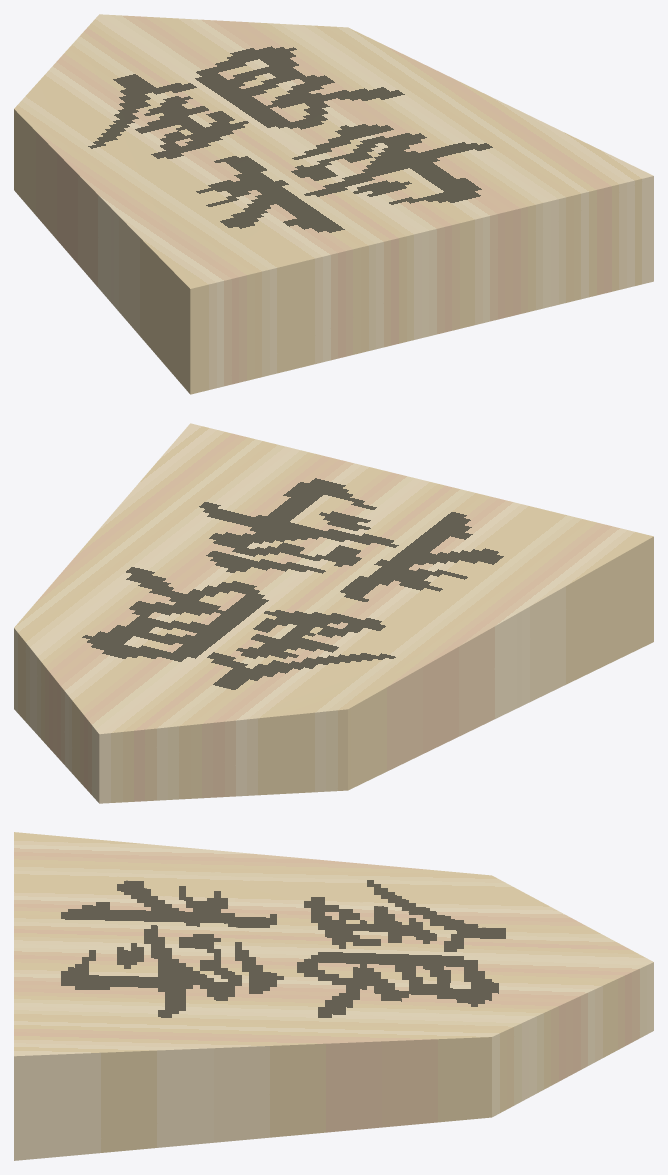
Rendered from 01ba_Ginsho.glb.
The picture shows the model from 3 angles, top to bottom: view 1: azimuth 30°, elevation 25°; view 2: azimuth 150°, elevation 25°; view 3: azimuth 270°, elevation 25°; orthographic projection.
Parts seen in each view (by area): view 1: part_0; view 2: part_0; view 3: part_0.
Boxes of the visible parts, <box> form: part_0: <box>14,14,653,394</box>; part_0: <box>14,423,653,803</box>; part_0: <box>14,832,653,1160</box>.
Bounding box in the file's own units: 0.0253 × 0.0055 × 0.0305.
1 material, 1 textured.
